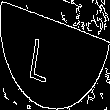L_N: (42, 27, 68, 83)
